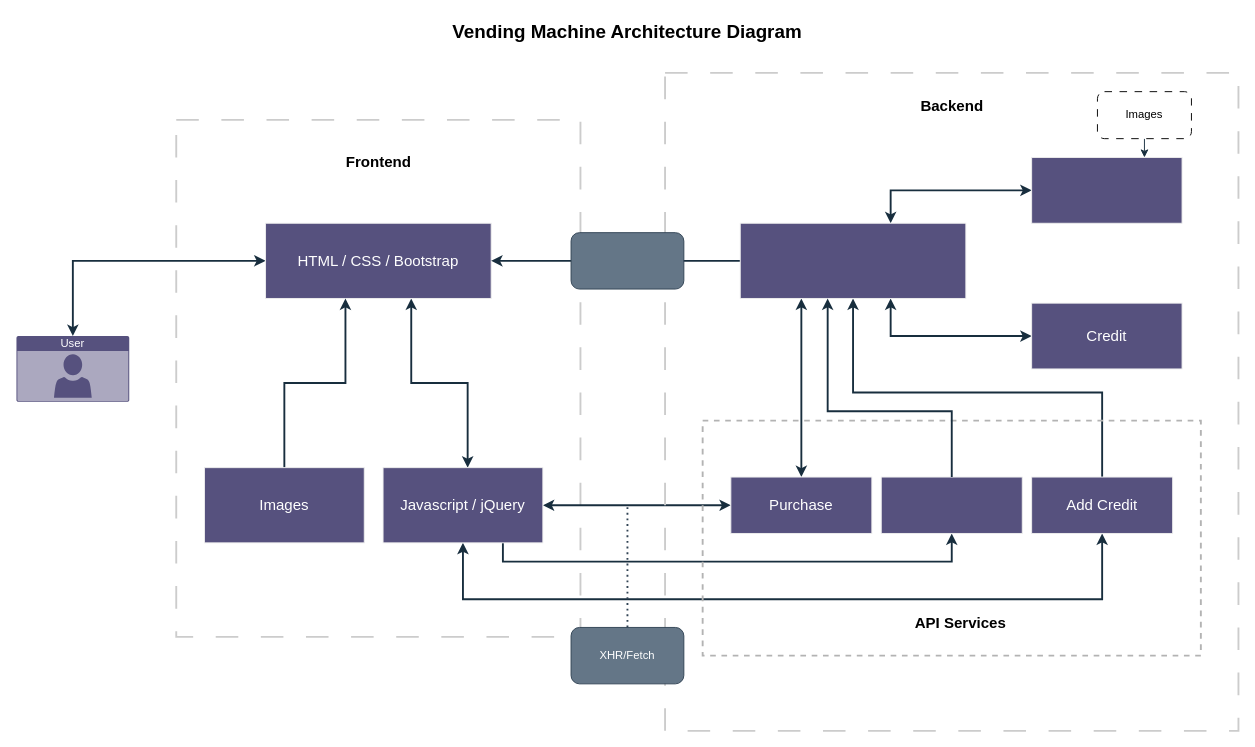
The diagram is 1255 pixels wide and 747 high, and some of its shapes have lost their labels. Here are the shapes that lost their labels. From the top down, the centre of each, then its label:
At point 1106,190: "Product".
At point 627,260: "Server Rendering".
At point 852,260: "Session Management".
At point 951,504: "Re stock".
